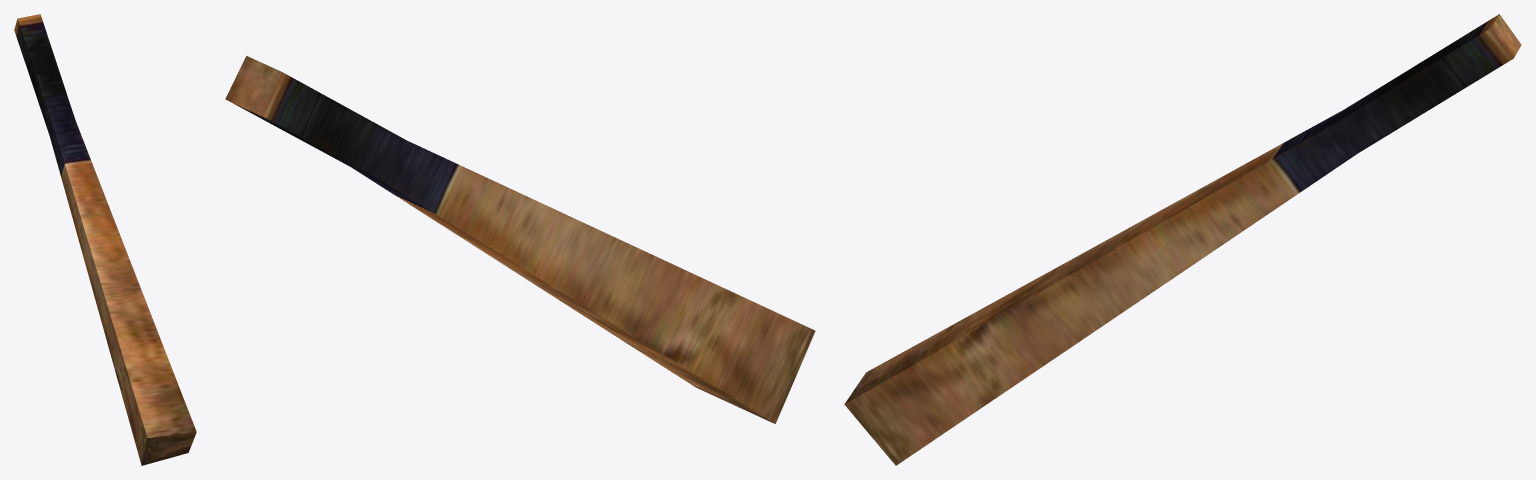
The model's file is drat bat.fbx.
The picture shows the model from 3 angles, left to right: view 1: azimuth 30°, elevation 25°; view 2: azimuth 150°, elevation 25°; view 3: azimuth 270°, elevation 25°; orthographic projection. The views are drawn at different scales.
Parts seen in each view (by area): view 1: ratbat; view 2: ratbat; view 3: ratbat.
Part boxes in pixels (x1,y1,x2,y2): ratbat: (14,14,196,465); ratbat: (225,56,815,423); ratbat: (844,14,1521,465).
Bounding box in the file's own units: 19.08 × 58.8 × 75.8.
